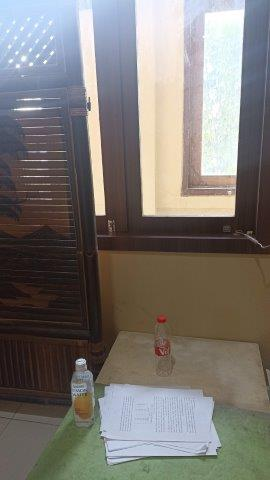botolplastik: (68, 359, 97, 433), (152, 314, 176, 376)
kertas: (95, 382, 223, 458)
